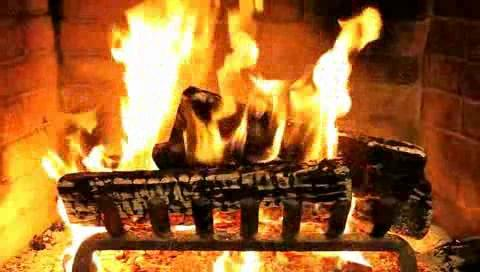fire: (105, 3, 351, 175)
